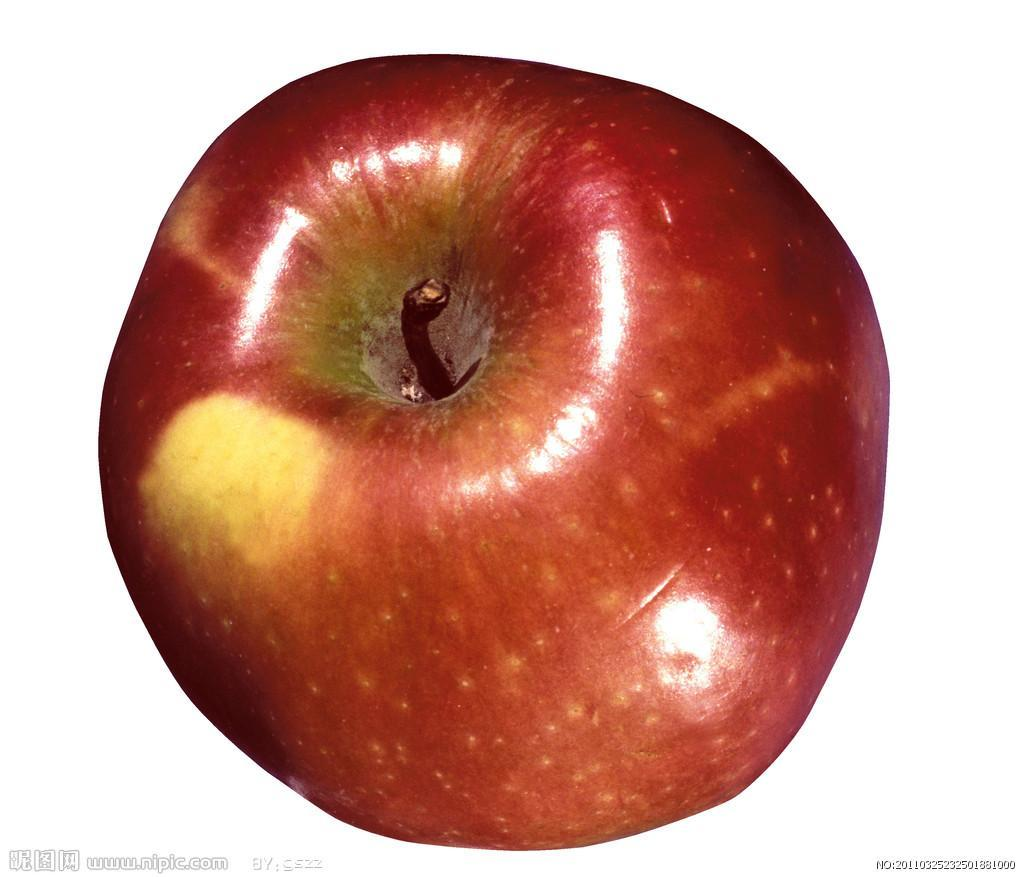apple: (99, 42, 891, 854)
